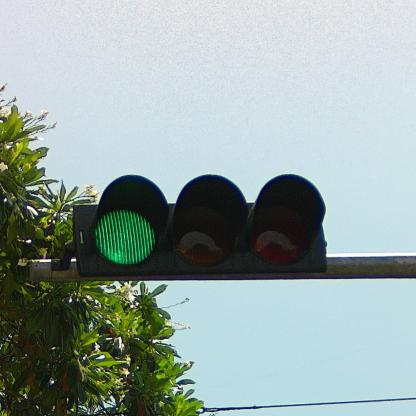green: (79, 175, 330, 279)
